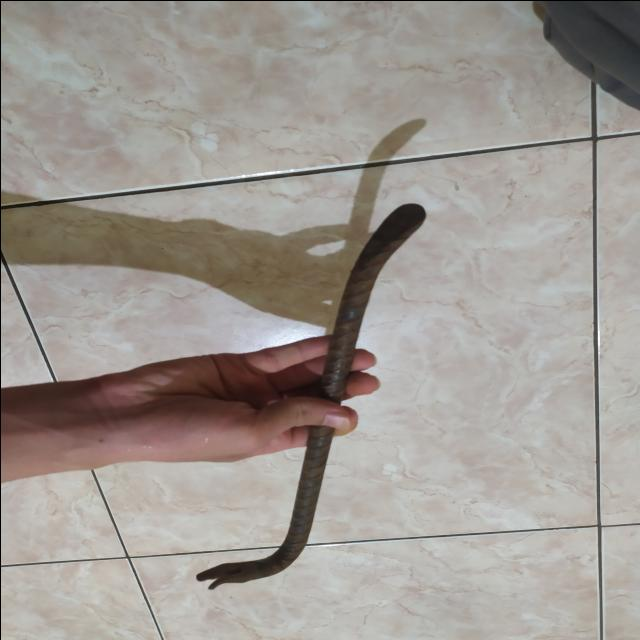Linggis: (193, 203, 424, 590)
